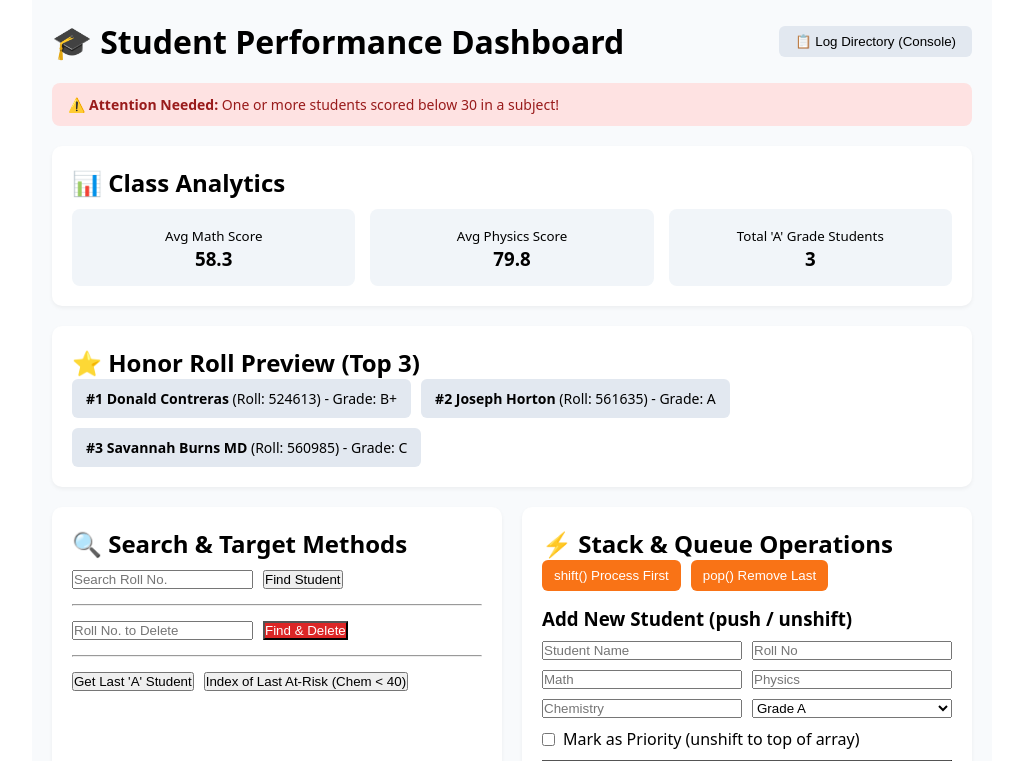
StudentDashboard Component › Student search (find / findLast) › Last grade "A" student lookup (findLast) › should find the last student with grade "A"
What coordinates should you click on to do the following:
click the button "Get Last 'A' Student"
I would click on:
 (133, 682)
Its box is [72,672,194,691].
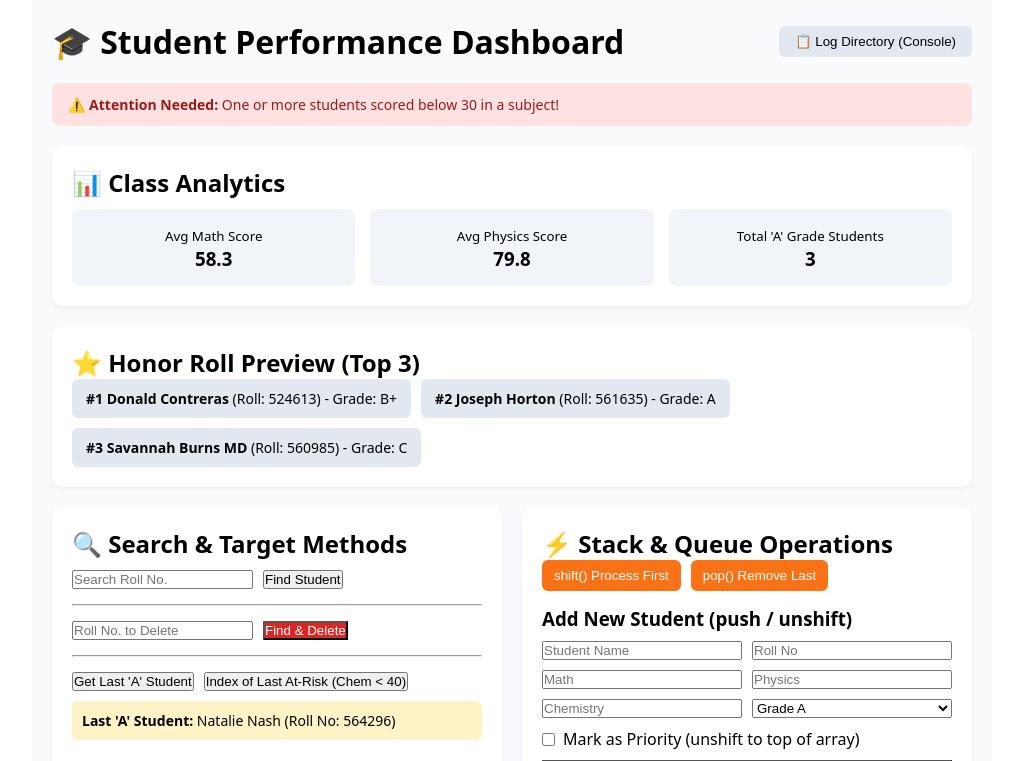
Expected: the text "Last 'A' Student: Natalie Nash (Roll No: 564296)" is shown, [72,701,482,740]
